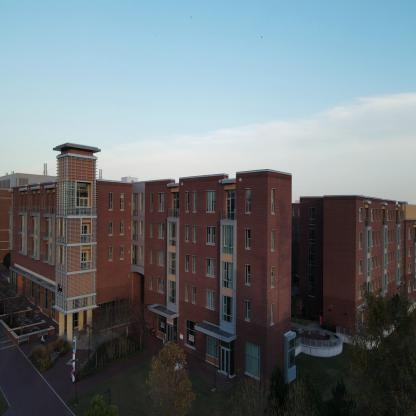Wolf Ridge: (10, 126, 306, 363), (308, 177, 415, 335)
